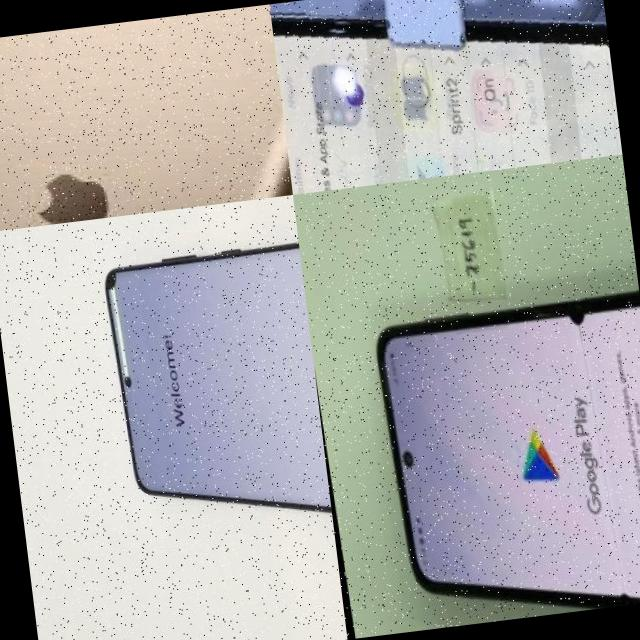dead pixel: (82, 247, 133, 313), (555, 285, 596, 342), (600, 560, 637, 608)
